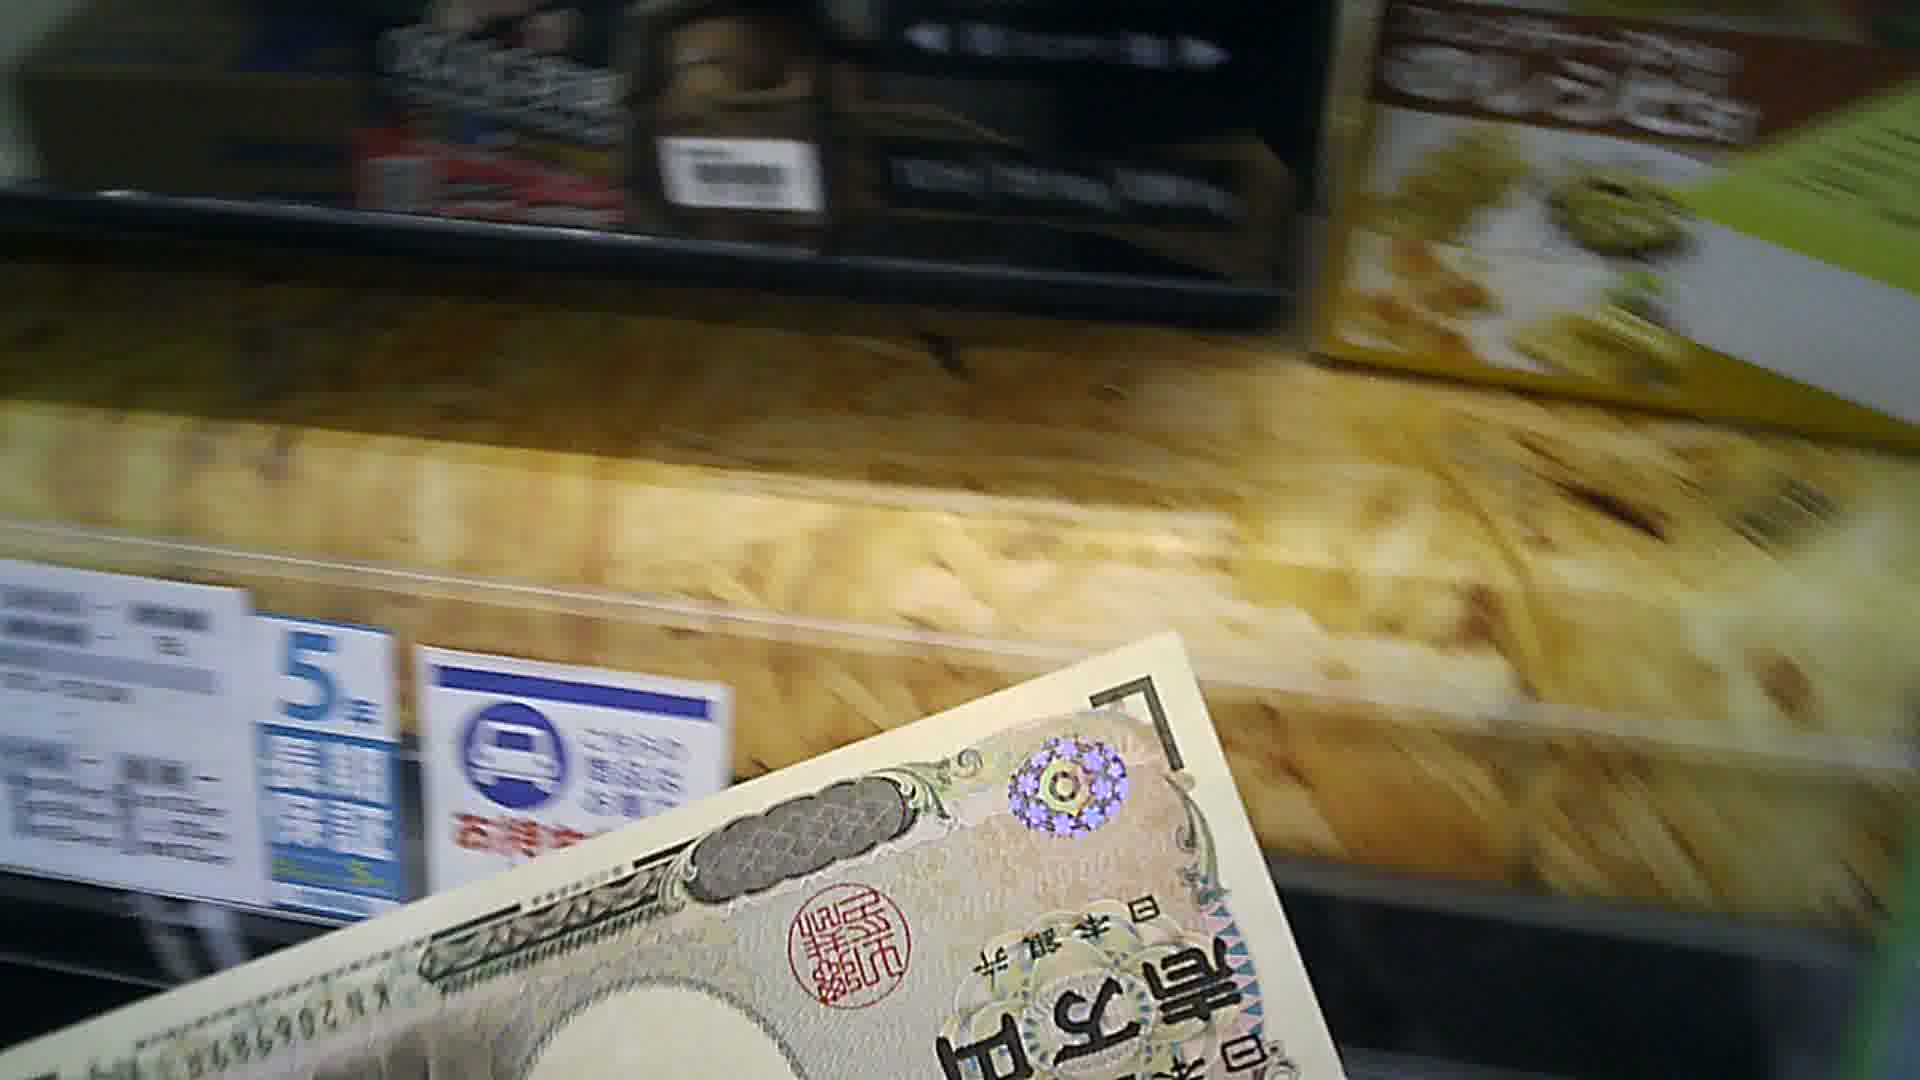10,000 Yen: (55, 646, 1352, 1073)
